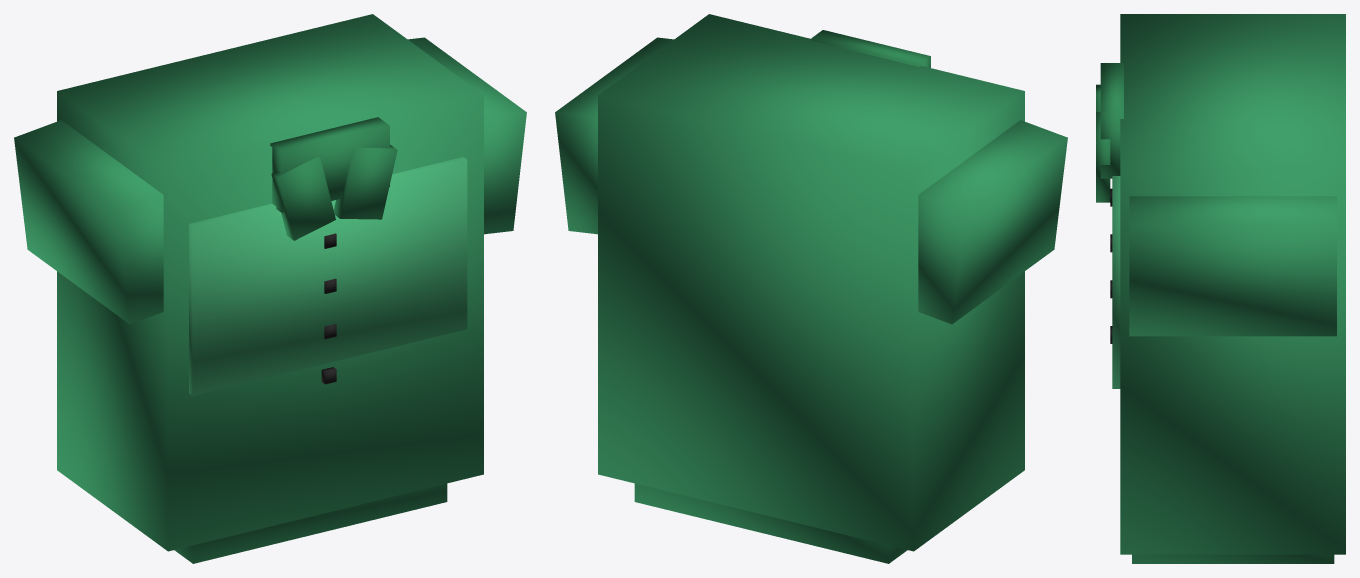
Rendered from skomma_body_male_green_01.glb.
3 views of the same model, side by side, from view 1: azimuth 30°, elevation 25°; view 2: azimuth 150°, elevation 25°; view 3: azimuth 270°, elevation 25° (orthographic).
Parts seen in each view (by area): view 1: Torso, Chest, Left_Shoulder, Right_Shoulder, Waist, Collar, Left_Collar, Right_Collar; view 2: Torso, Left_Shoulder, Right_Shoulder, Waist, Collar; view 3: Torso, Right_Shoulder, Collar, Waist, Chest, Right_Collar.
Boxes of the visible parts, x1,y1,x2,y2 form: Torso: (57, 14, 483, 551); Chest: (189, 157, 467, 395); Left_Shoulder: (14, 120, 163, 324); Right_Shoulder: (408, 37, 526, 234); Waist: (174, 483, 447, 563); Collar: (270, 117, 389, 212); Left_Collar: (271, 156, 335, 240); Right_Collar: (333, 144, 397, 219); Torso: (598, 14, 1024, 551); Left_Shoulder: (918, 120, 1067, 324); Right_Shoulder: (555, 37, 673, 234); Waist: (634, 483, 907, 563); Collar: (811, 30, 930, 67); Torso: (1120, 14, 1345, 554); Right_Shoulder: (1129, 196, 1336, 336); Collar: (1100, 63, 1123, 178); Waist: (1132, 554, 1334, 563); Chest: (1112, 176, 1120, 388); Right_Collar: (1096, 112, 1110, 202).
Bounding box in the file's own units: 2.66 × 2.51 × 1.39.
